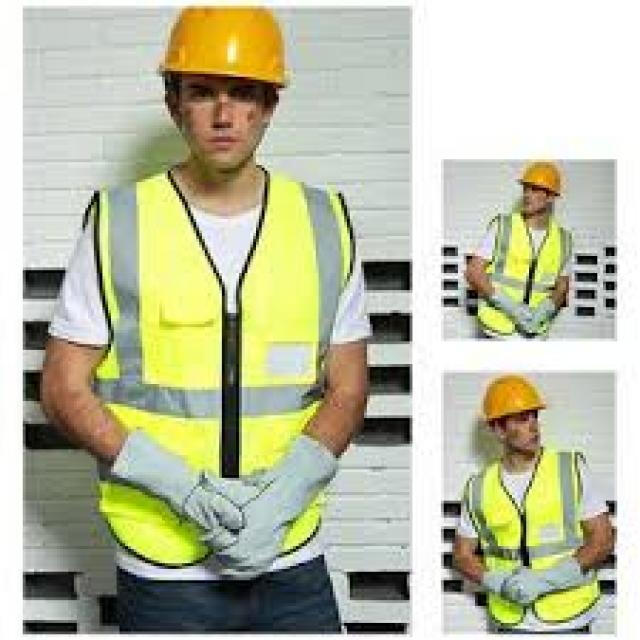Reflective-Jacket: (65, 162, 372, 572), (458, 444, 609, 634), (472, 210, 578, 342)
Safety-Helmet: (142, 0, 310, 100), (469, 364, 555, 430), (509, 151, 575, 205)
